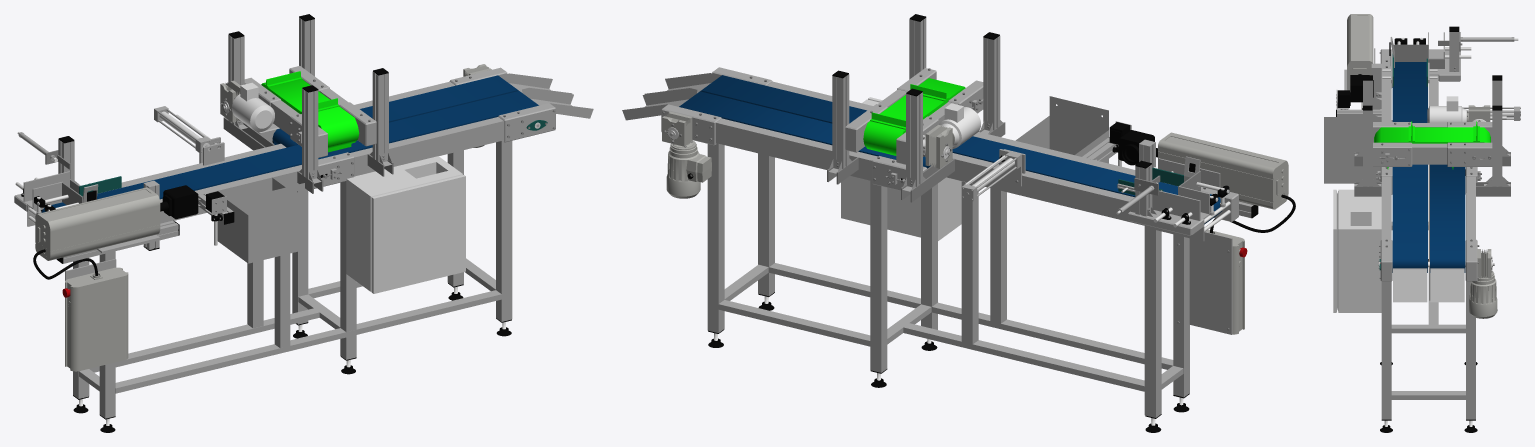
File: we dual-lane laser aggregation line.glb
The picture shows the model from 3 angles, left to right: view 1: azimuth 30°, elevation 25°; view 2: azimuth 150°, elevation 25°; view 3: azimuth 270°, elevation 25°; orthographic projection. The views are drawn at different scales.
Parts seen in each view (by area): view 1: line; view 2: line; view 3: line.
Boxes of the visible parts, x1,y1,x2,y2 form: line: (14, 14, 593, 432); line: (622, 14, 1295, 432); line: (1324, 14, 1520, 432).
Bounding box in the file's own units: 2.8 × 1.39 × 0.9354.
